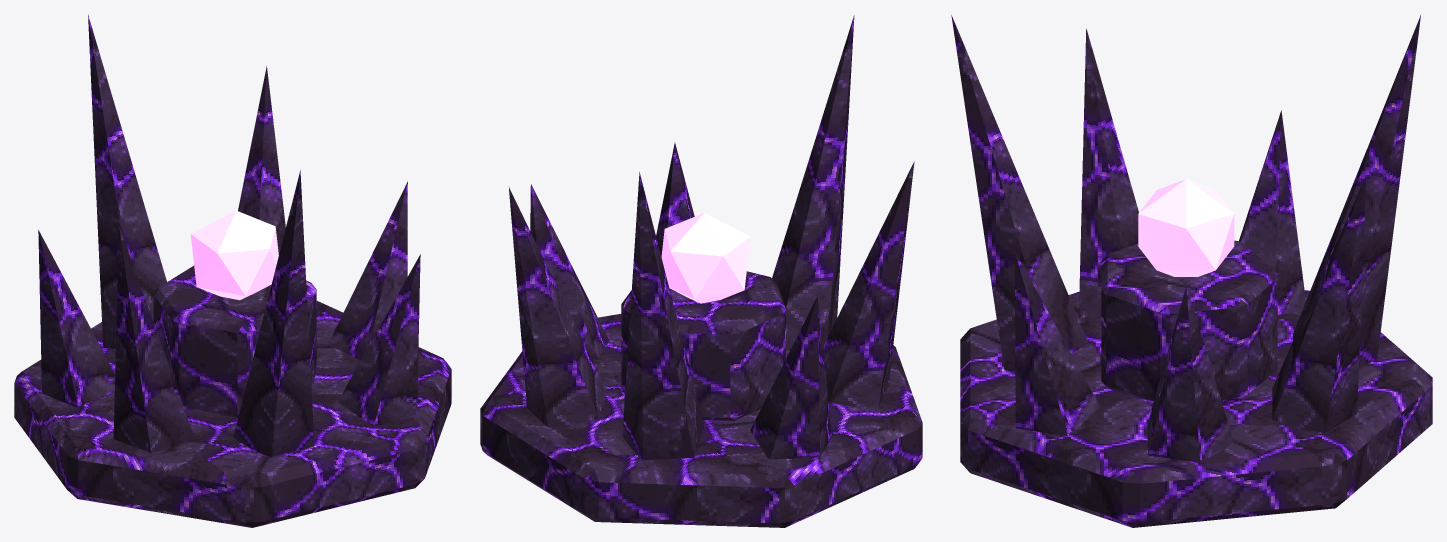
File: greed.glb
3 renders of one model, left to right at view 1: azimuth 30°, elevation 25°; view 2: azimuth 150°, elevation 25°; view 3: azimuth 270°, elevation 25°, orthographic. The views are drawn at different scales.
Parts seen in each view (by area): view 1: Base, Bowl, Spike5, Spike2, Spike4, Spike6, Spike3, Flame, Spike0, Spike1; view 2: Base, Spike2, Bowl, Spike5, Spike1, Spike4, Spike3, Flame, Spike0, Spike6; view 3: Base, Bowl, Spike5, Spike1, Spike2, Spike4, Spike6, Spike0, Flame, Spike3.
Part boxes in pixels (x1,y1,x2,y2): Base: (14, 301, 451, 527); Bowl: (153, 265, 316, 417); Spike5: (233, 170, 314, 456); Spike2: (88, 14, 166, 348); Spike4: (113, 225, 194, 452); Spike6: (338, 254, 420, 426); Spike3: (38, 230, 115, 407); Flame: (190, 210, 278, 300); Spike0: (328, 181, 407, 360); Spike1: (238, 66, 285, 254); Base: (480, 314, 922, 527); Spike2: (622, 172, 704, 459); Bowl: (621, 271, 785, 420); Spike5: (772, 15, 854, 350); Spike1: (509, 187, 607, 427); Spike4: (823, 161, 914, 408); Spike3: (750, 296, 831, 459); Flame: (661, 213, 750, 303); Spike0: (530, 184, 609, 359); Spike6: (656, 142, 694, 256); Base: (960, 290, 1432, 527); Bowl: (1101, 240, 1277, 403); Spike5: (951, 15, 1088, 371); Spike1: (1272, 176, 1366, 432); Spike2: (1293, 15, 1420, 368); Spike4: (1079, 28, 1138, 317); Spike6: (1014, 251, 1100, 436); Spike0: (1147, 286, 1233, 462); Flame: (1138, 179, 1234, 276); Spike3: (1239, 110, 1305, 315).
Bounding box in the file's own units: 3.86 × 3.45 × 3.84.
Materials: 2 (1 with a texture image).
